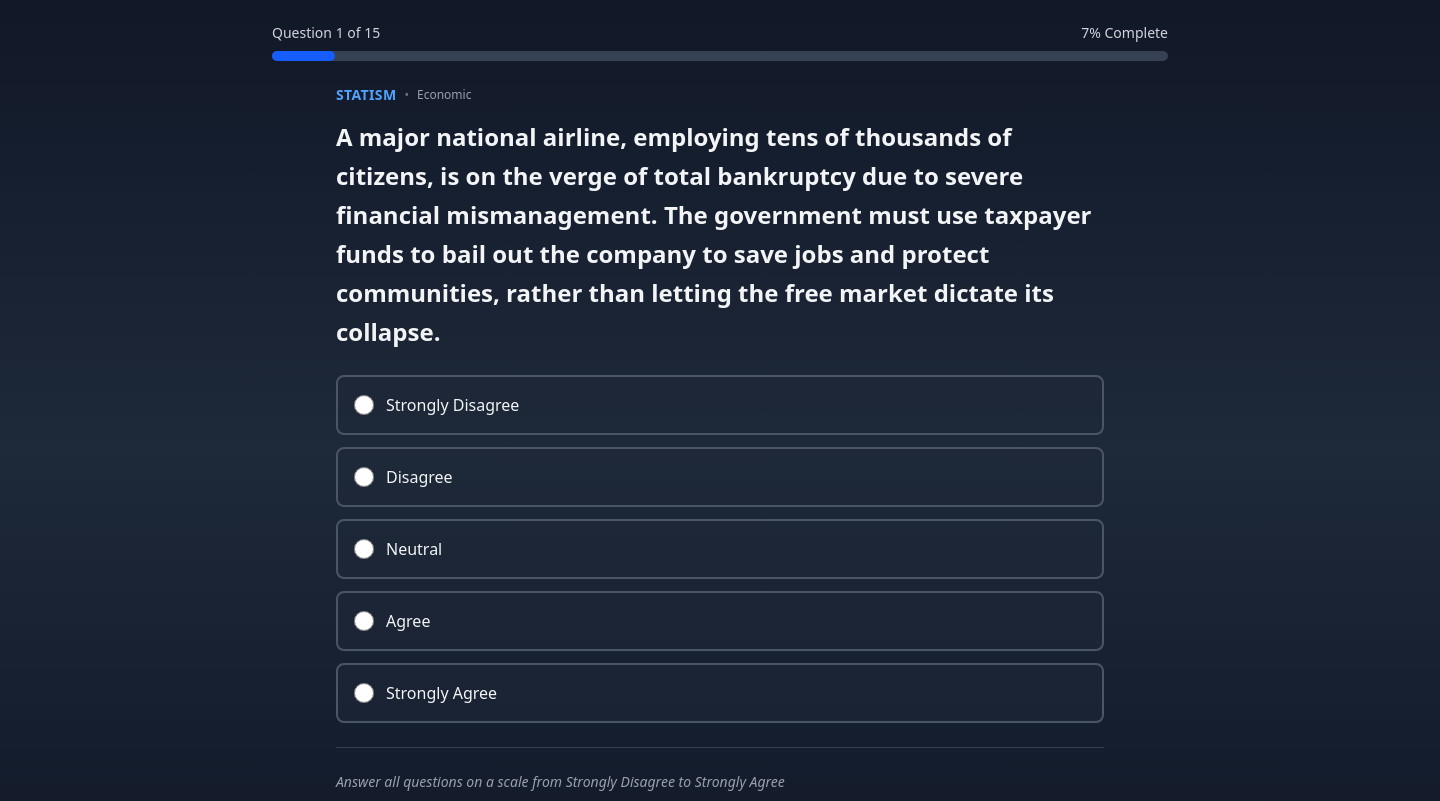
Test: QuizContainer › updates progress as questions are answered and navigated
Expected: the text "Question 1 of 15" is shown, [272, 23, 380, 43]
// Answer and go to question 2
Click the radio button labelled "Agree".
click(364, 621)  # box [354, 611, 374, 631]
(page scrolled)
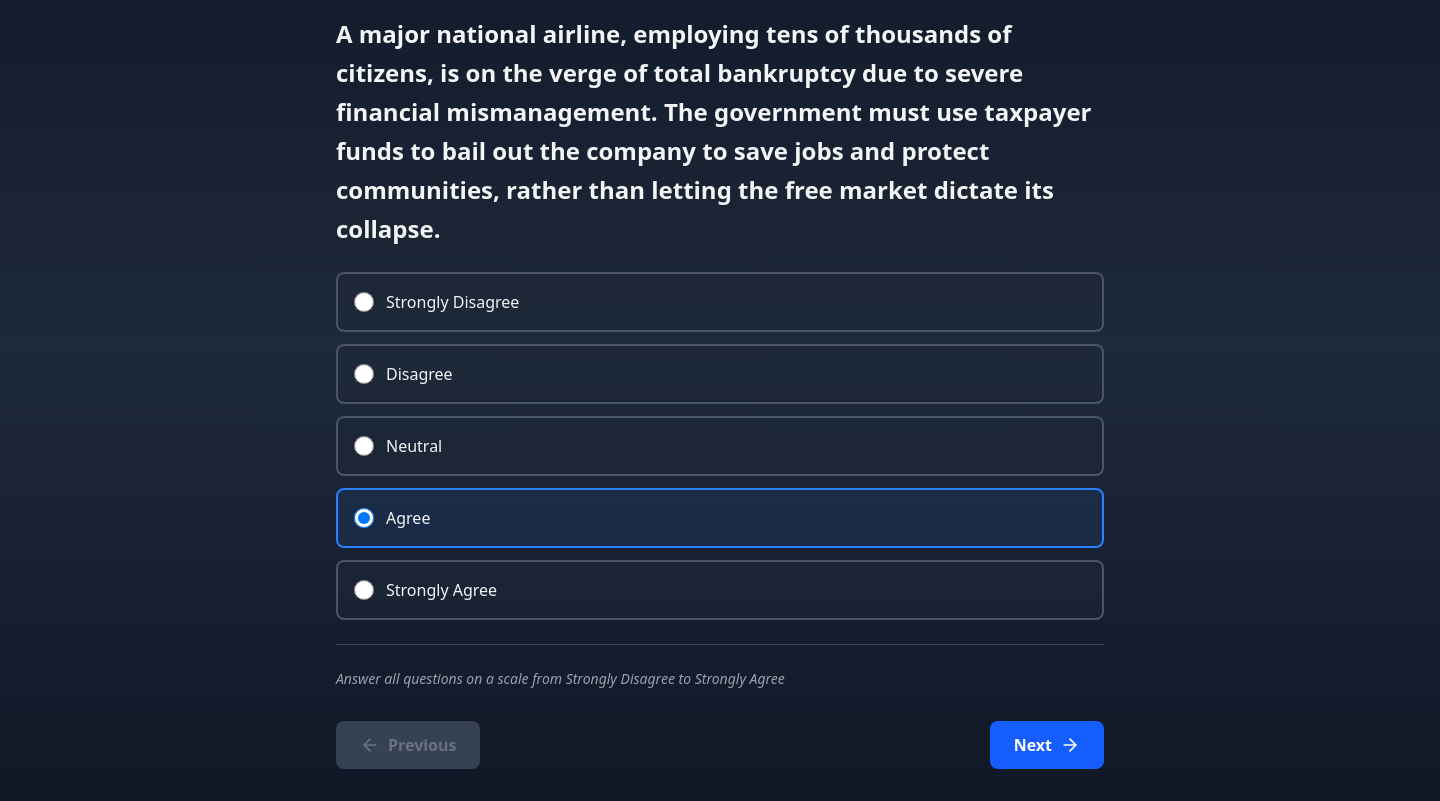
Click the button "Next".
click(1047, 745)  # box [990, 721, 1104, 769]
(page scrolled)
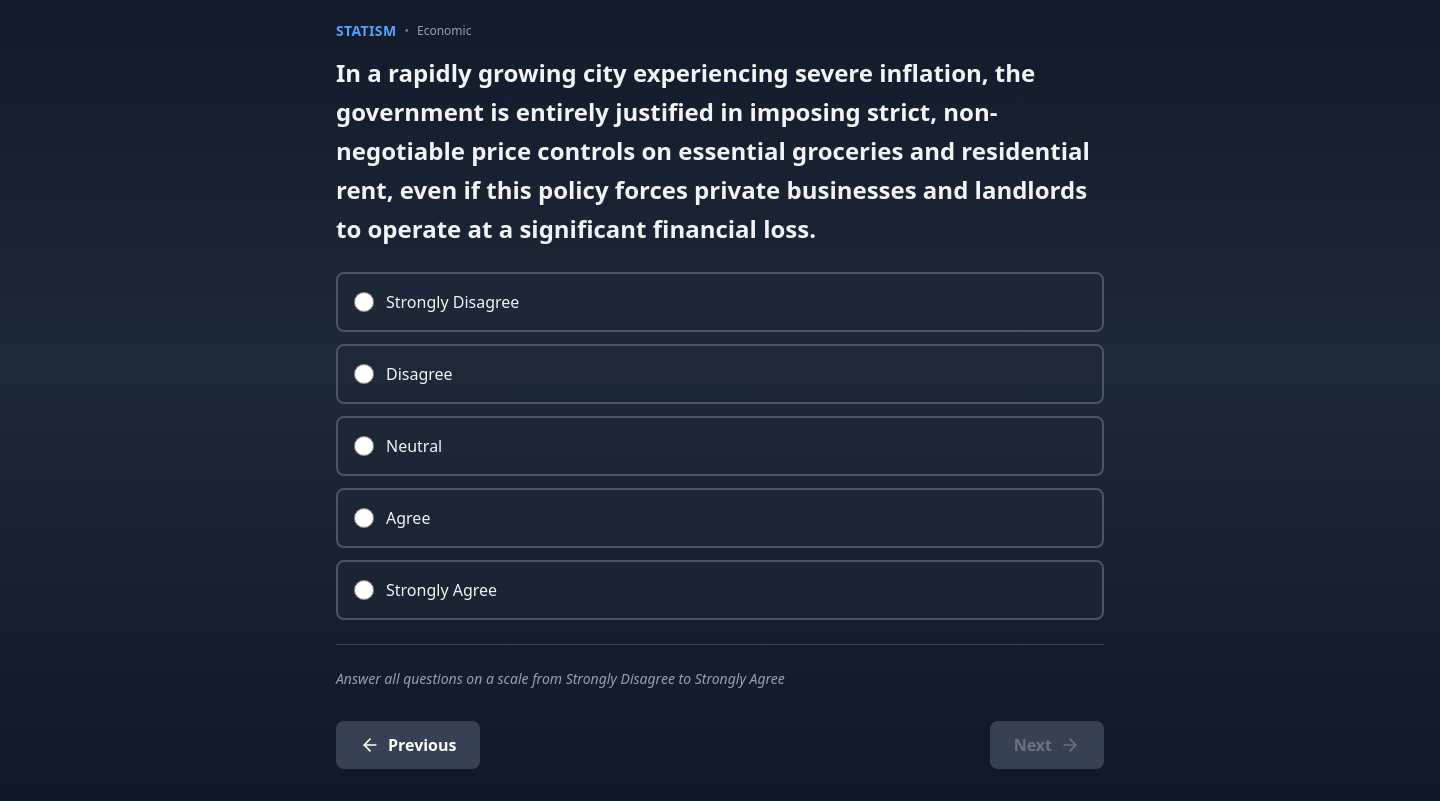
// Answer and go to question 3
Click the radio button labelled "Agree".
click(364, 518)  # box [354, 508, 374, 528]
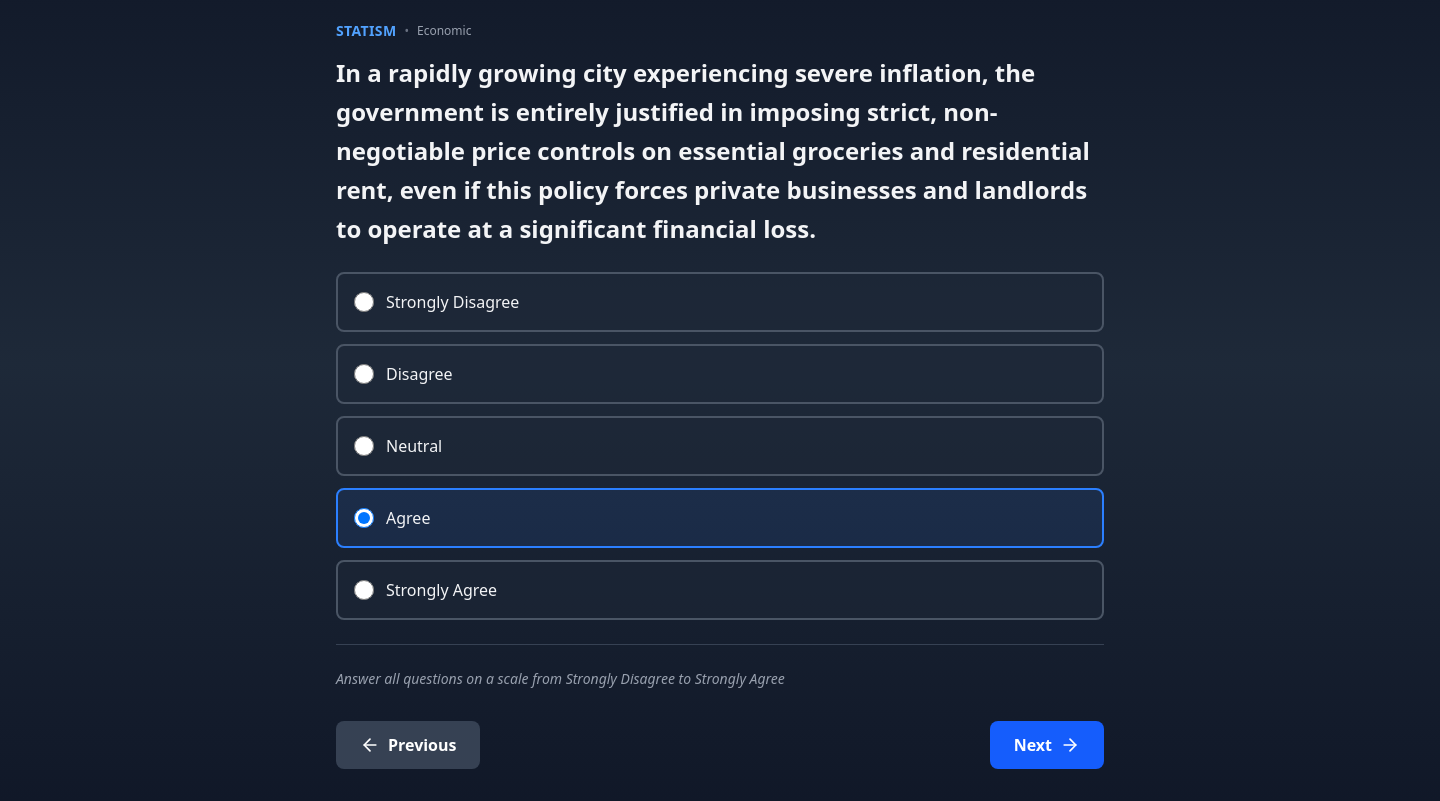
Click the button "Next".
click(1047, 745)  # box [990, 721, 1104, 769]
(page scrolled)
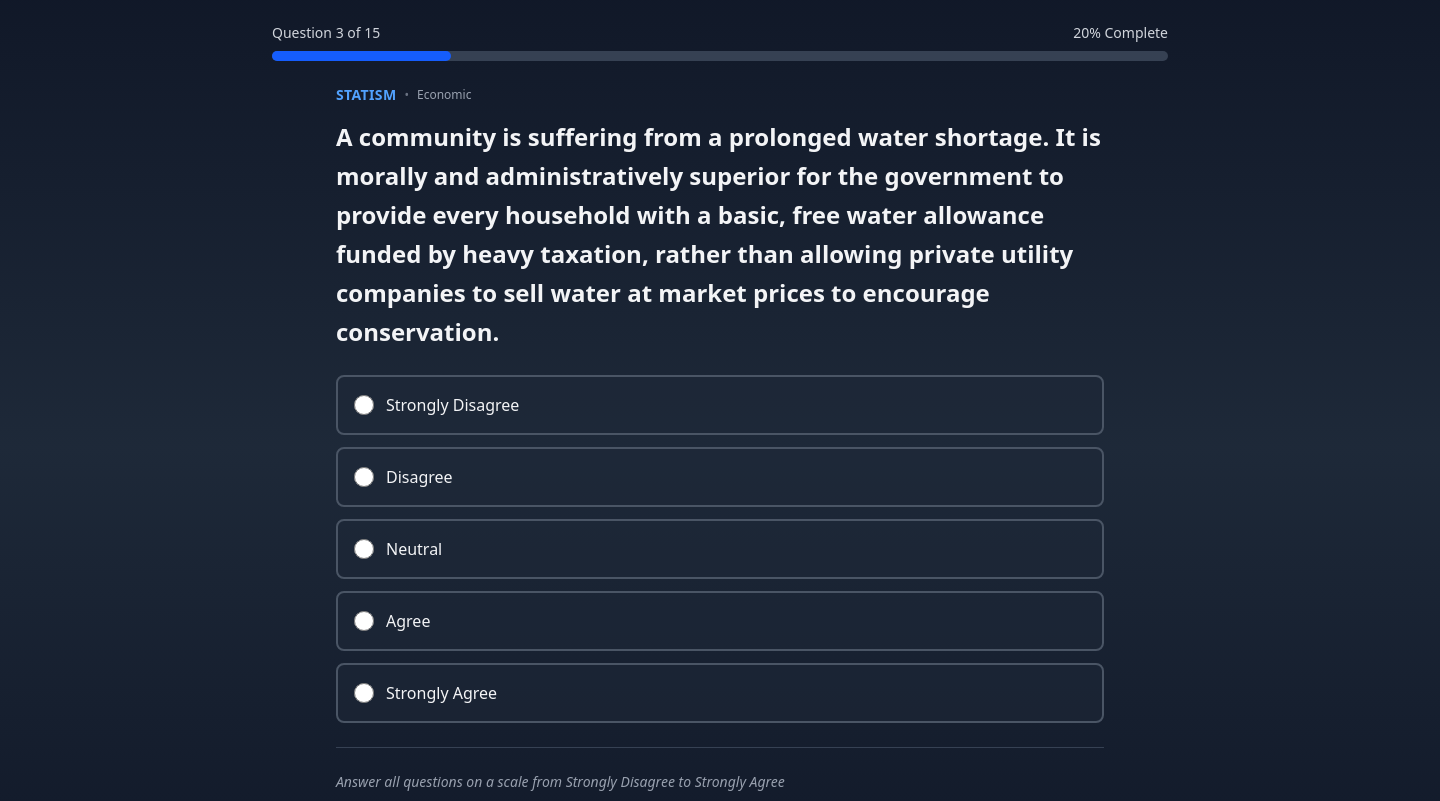
Now the text "Question 3 of 15" is shown, box [272, 23, 380, 43]
